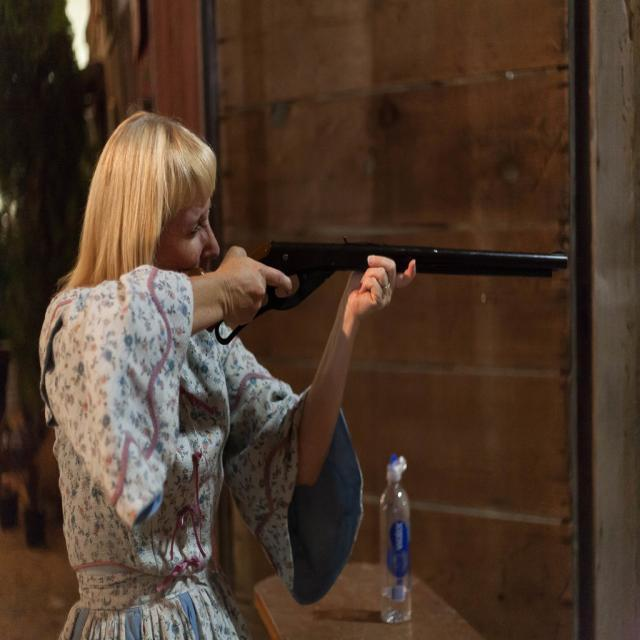weapon: (193, 217, 552, 336)
